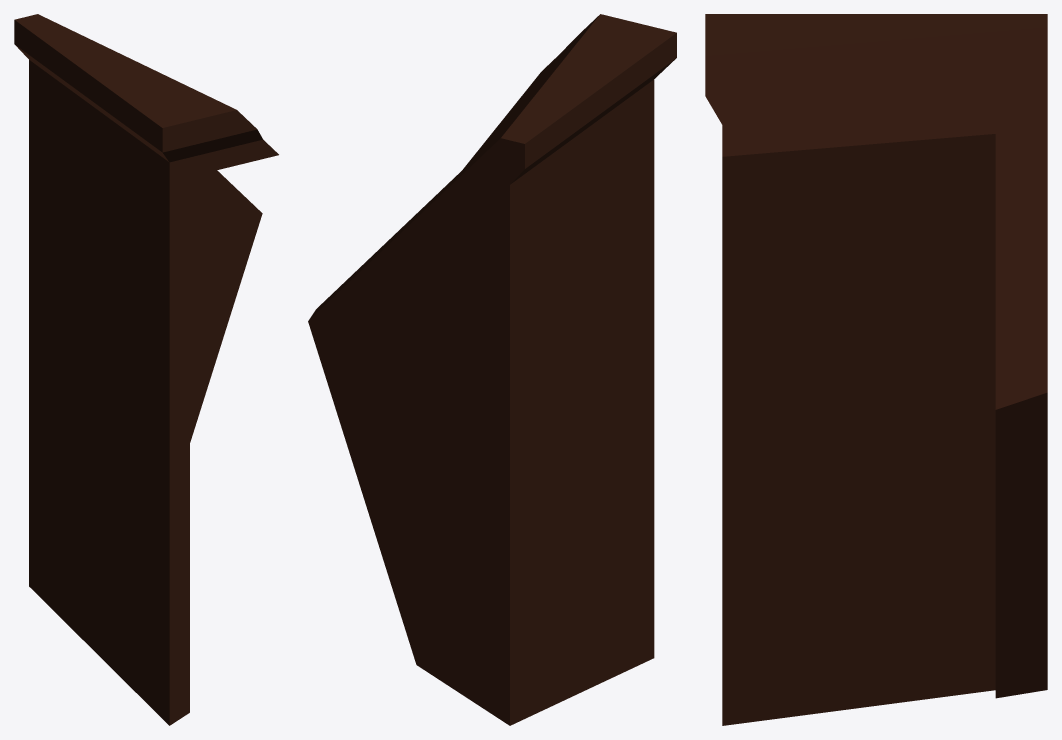
Rendered from Placard_Part_4.fbx.
3 views of the same model, side by side, from view 1: azimuth 30°, elevation 25°; view 2: azimuth 150°, elevation 25°; view 3: azimuth 270°, elevation 25° (orthographic). The views are drawn at different scales.
Parts seen in each view (by area): view 1: Placard_Part_4; view 2: Placard_Part_4; view 3: Placard_Part_4.
Boxes of the visible parts, x1,y1,x2,y2 form: Placard_Part_4: [14, 14, 278, 725]; Placard_Part_4: [308, 14, 676, 725]; Placard_Part_4: [705, 14, 1047, 725].
Size of the model in its own units: 78.43 by 202 by 89.15.
